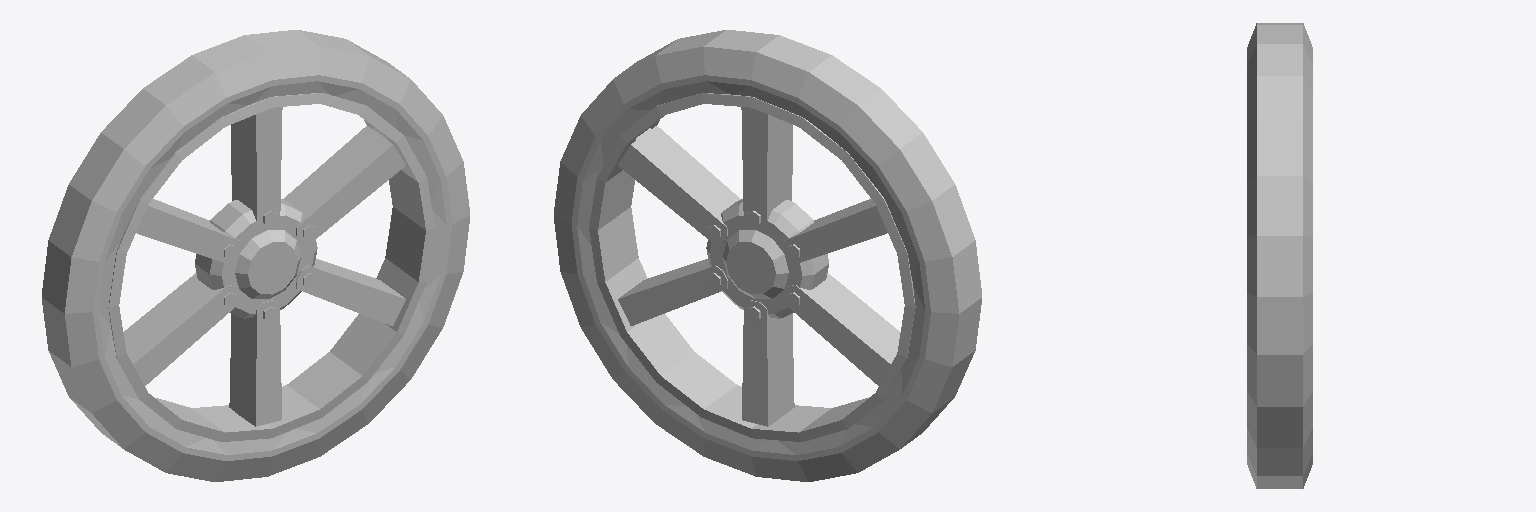
File: obj_interactive_fant_wheel_large_2b.obj
3 renders of one model, left to right at view 1: azimuth 30°, elevation 25°; view 2: azimuth 150°, elevation 25°; view 3: azimuth 270°, elevation 25°, orthographic.
Visible parts, largest first — view 1: fant_wheel_large_1_Mesh; view 2: fant_wheel_large_1_Mesh; view 3: fant_wheel_large_1_Mesh.
Boxes of the visible parts, x1,y1,x2,y2 form: fant_wheel_large_1_Mesh: [42, 30, 469, 481]; fant_wheel_large_1_Mesh: [554, 30, 981, 481]; fant_wheel_large_1_Mesh: [1247, 23, 1312, 488].
Size of the model in its own units: 7 by 7 by 1.